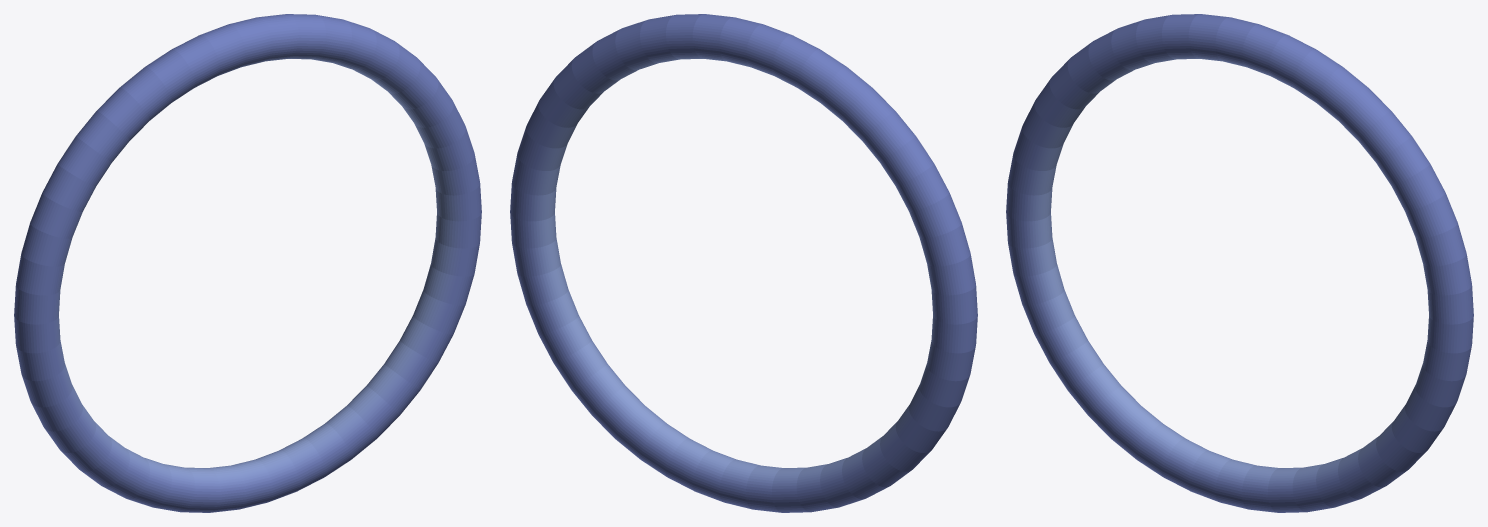
3 renders of one model, left to right at view 1: azimuth 30°, elevation 25°; view 2: azimuth 150°, elevation 25°; view 3: azimuth 330°, elevation 25°, orthographic.
Visible parts, largest first — view 1: world; view 2: world; view 3: world.
Part boxes in pixels (x1,y1,x2,y2): world: [14, 14, 481, 512]; world: [510, 14, 977, 512]; world: [1006, 14, 1473, 512].
Bounding box in the file's own units: 26.93 × 26.88 × 2.26.
